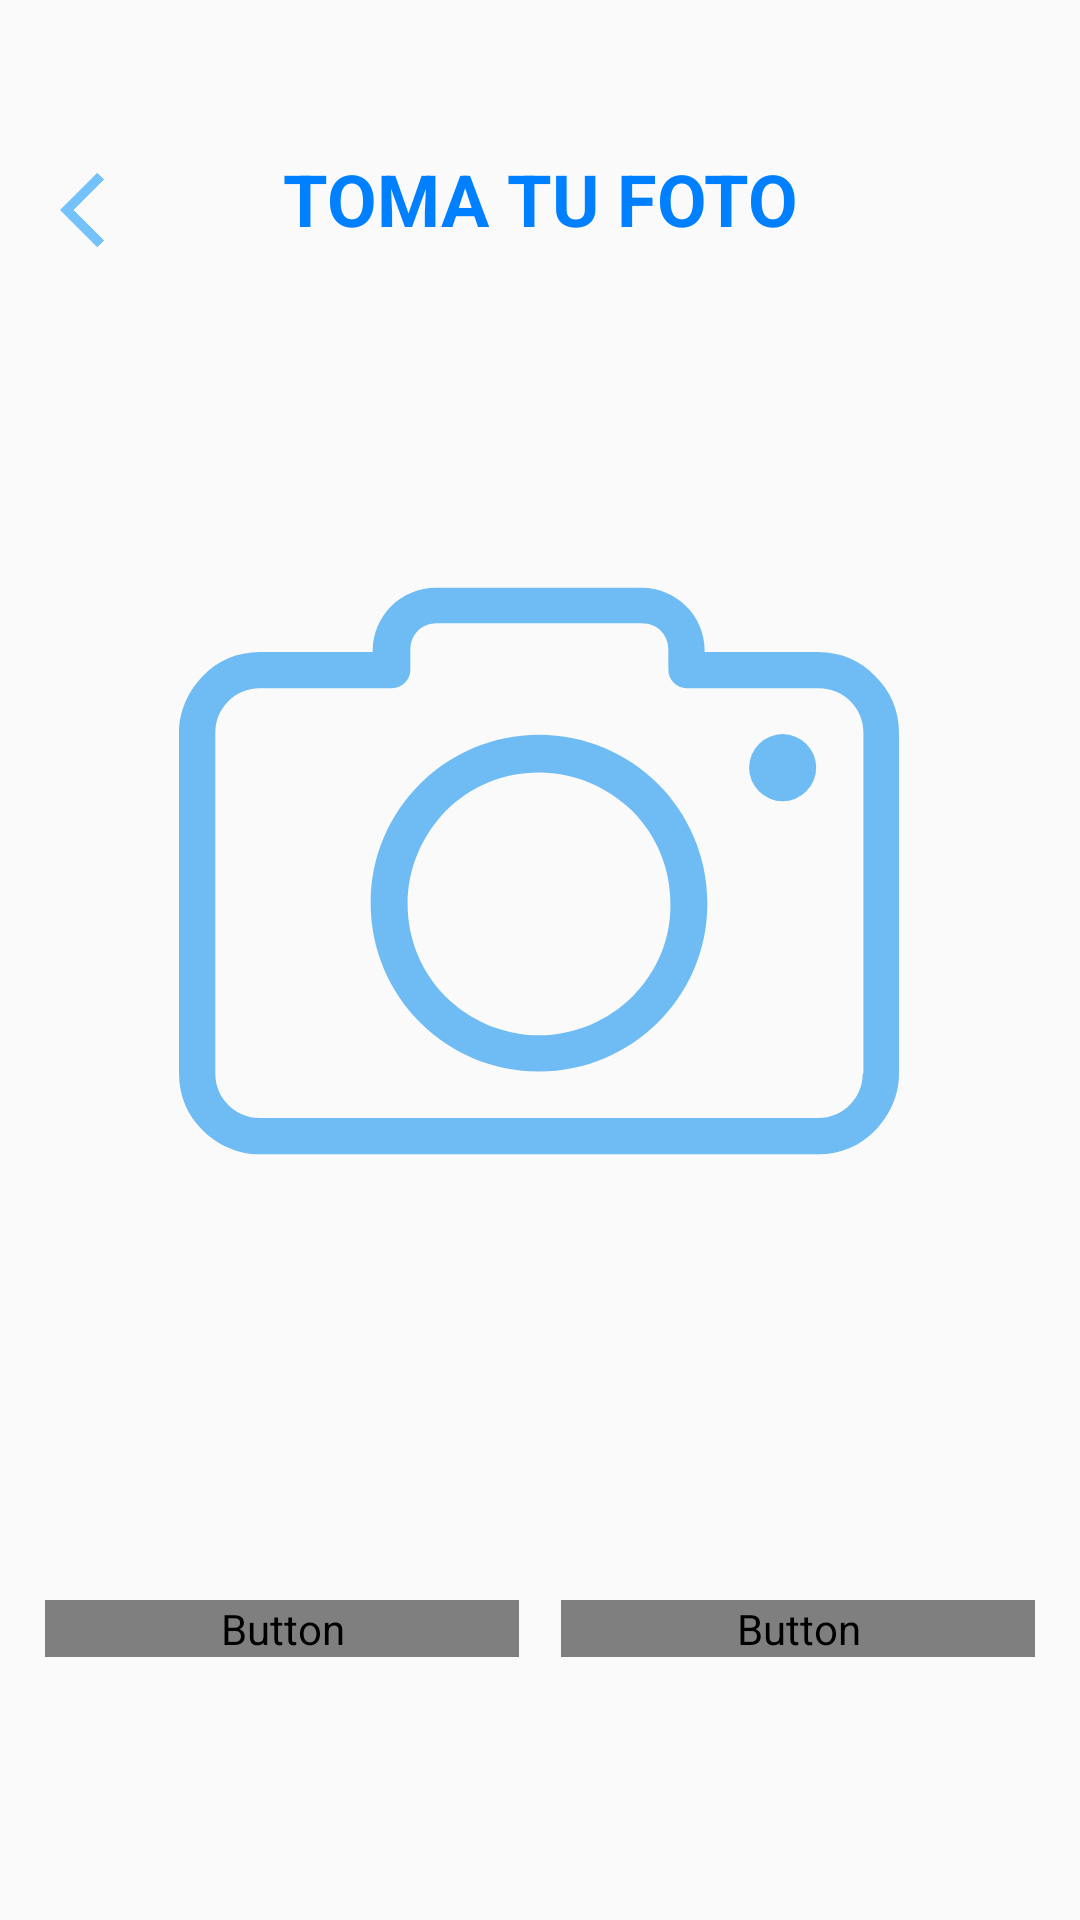

Locate icon controls on the screen. Image size 1080*1920, boxes as (left=x1, top=y1, right=x2, bottom=y2).
arrow back: (left=60, top=173, right=104, bottom=247)
